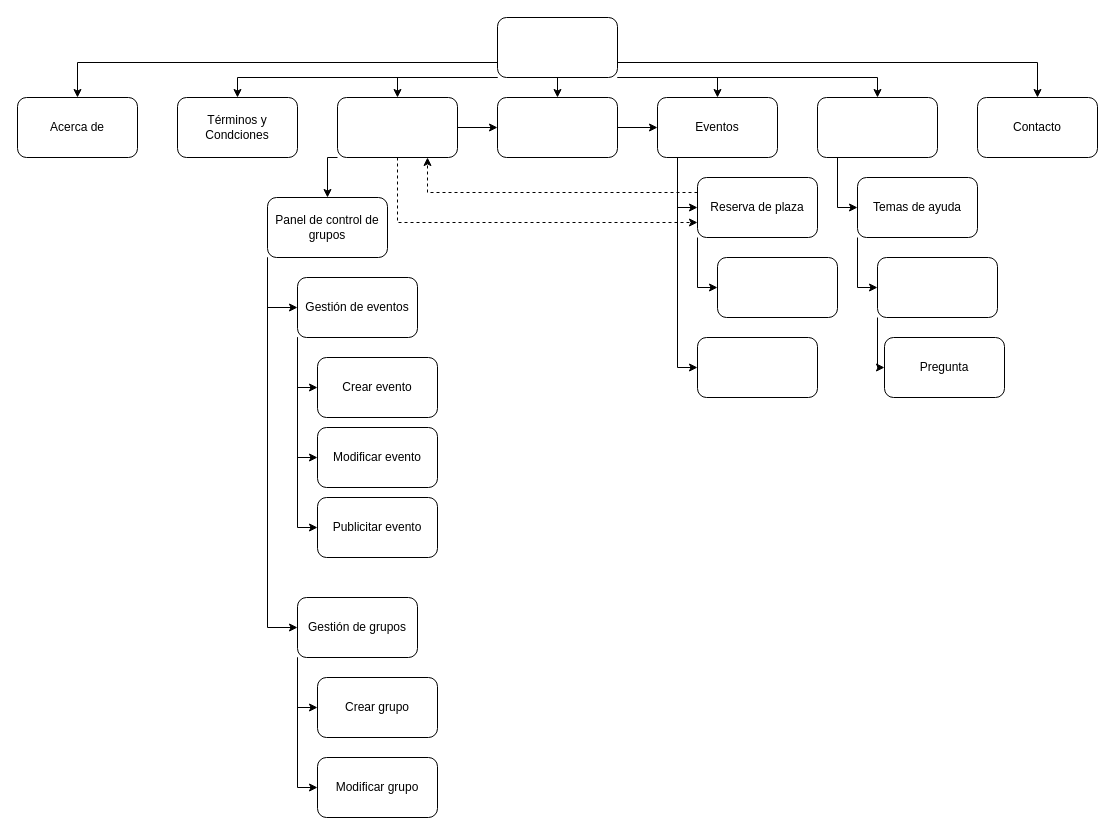
Some shapes in this 1115 by 835 pixel diagram are drawn without their labels. The shapes that lost their labels are listed below. From the top down, each one's centre as x and y in pixels, then its label:
the point at 557,47: Pagina principal
the point at 397,127: Login
the point at 557,127: Grupos
the point at 877,127: Ayuda
the point at 777,287: Plataforma de pago
the point at 937,287: FAQs
the point at 757,367: Contactar con organizador
